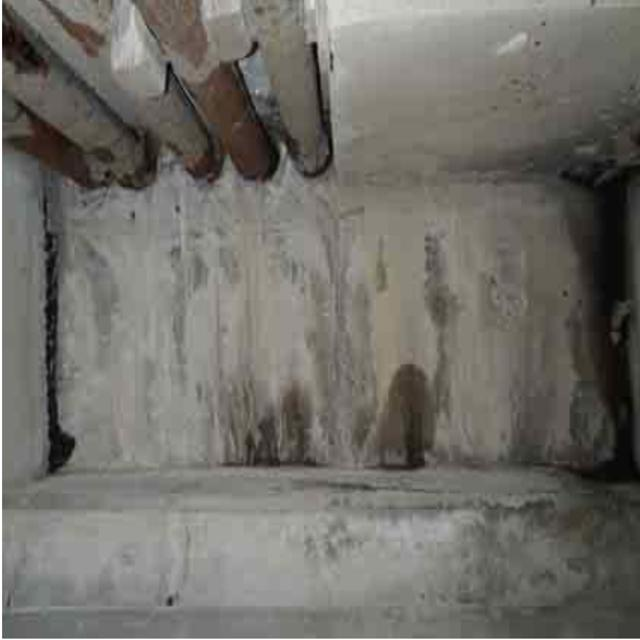corrosion: (15, 39, 288, 194)
leakage: (555, 150, 640, 482), (227, 348, 454, 472)
